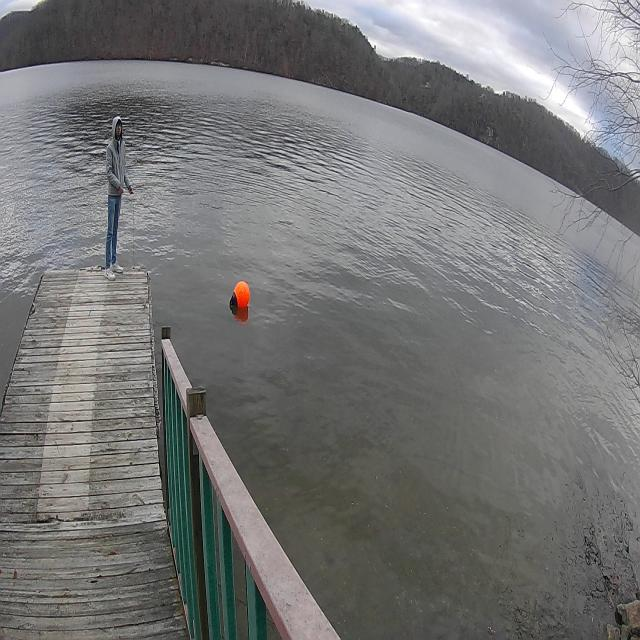Buoy: (226, 276, 256, 317)
